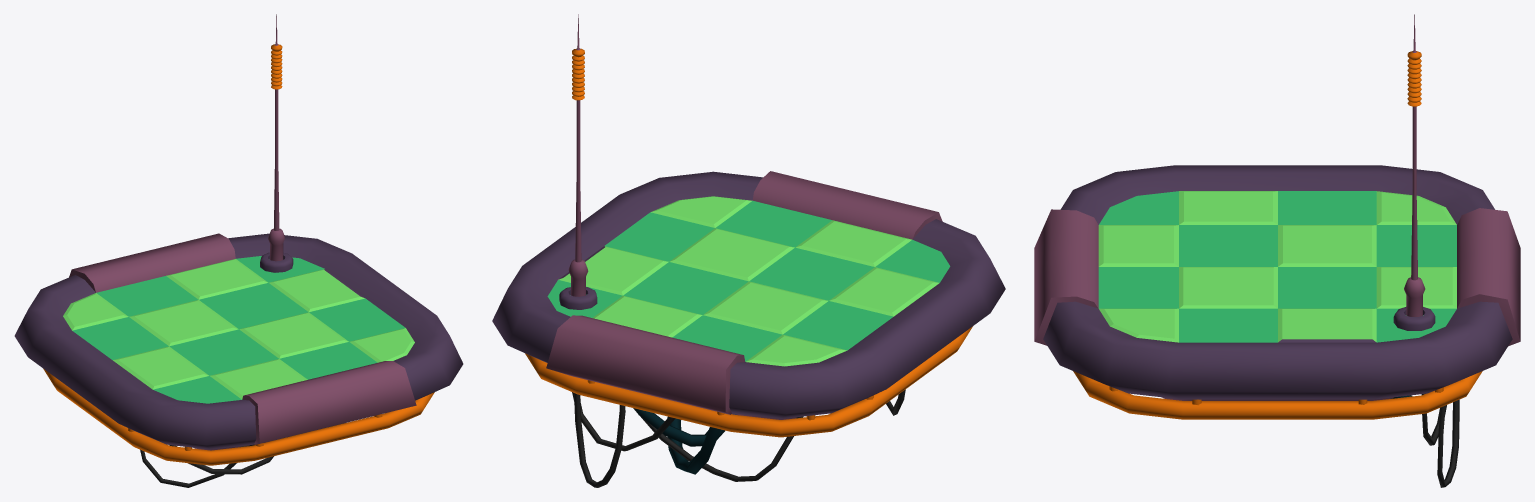
Rendered from horizontal_platform.fbx.
3 views of the same model, side by side, from view 1: azimuth 30°, elevation 25°; view 2: azimuth 150°, elevation 25°; view 3: azimuth 270°, elevation 25° (orthographic). The views are drawn at different scales.
Parts seen in each view (by area): view 1: Cube.004; view 2: Cube.004; view 3: Cube.004.
Part boxes in pixels (x1,y1,x2,y2): Cube.004: (14,14,463,487); Cube.004: (492,14,1005,487); Cube.004: (1034,14,1520,487).
Bounding box in the file's own units: 193 × 221 × 200.
